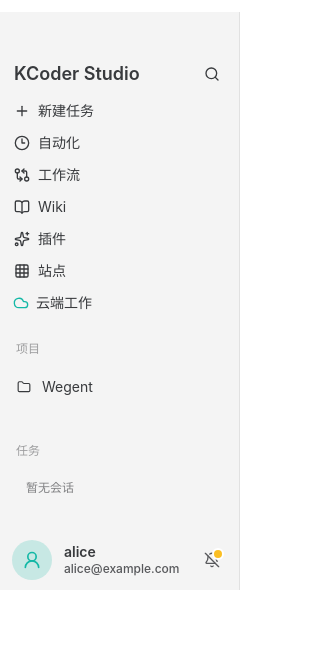
Scenario: DesktopSidebar device › does not render online devices section and keeps all runtime tasks visible
Click the button with test id "project-item-button". click: (123, 387)
box: left=16, top=377, right=230, bottom=397
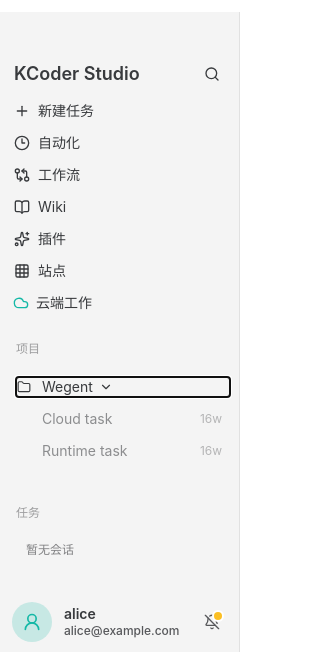
Now the button with test id "runtime-local-task-row-local-task" is shown, box left=42, top=442, right=222, bottom=459
Now the button with test id "runtime-local-task-row-cloud-task" is shown, box left=42, top=410, right=222, bottom=427
